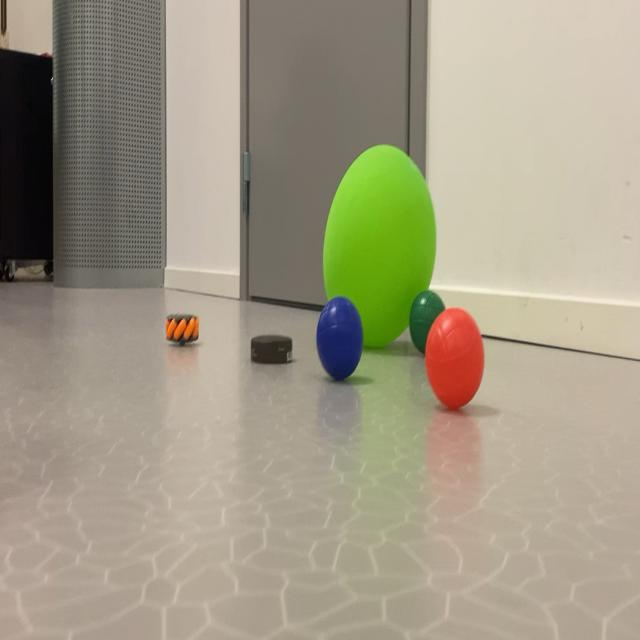7: (423, 308, 493, 417)
green ball: (312, 287, 368, 396)
red ball: (403, 274, 451, 352)
